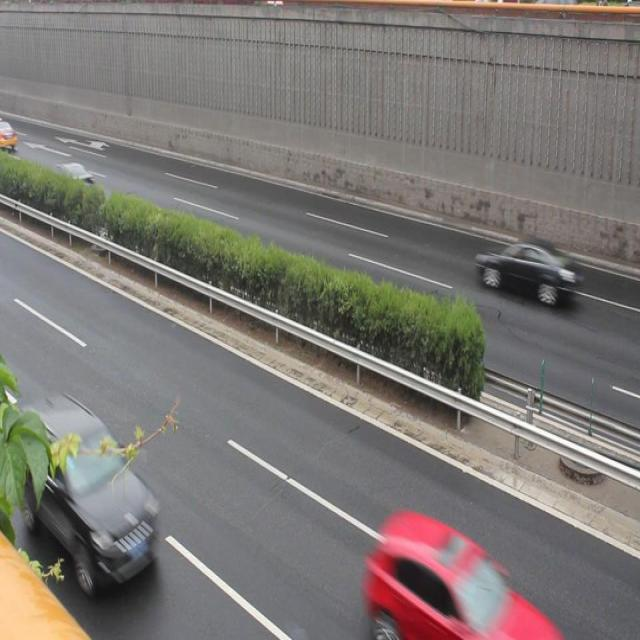car: (26, 394, 165, 586), (365, 505, 546, 640), (472, 235, 584, 318), (47, 155, 95, 205)
